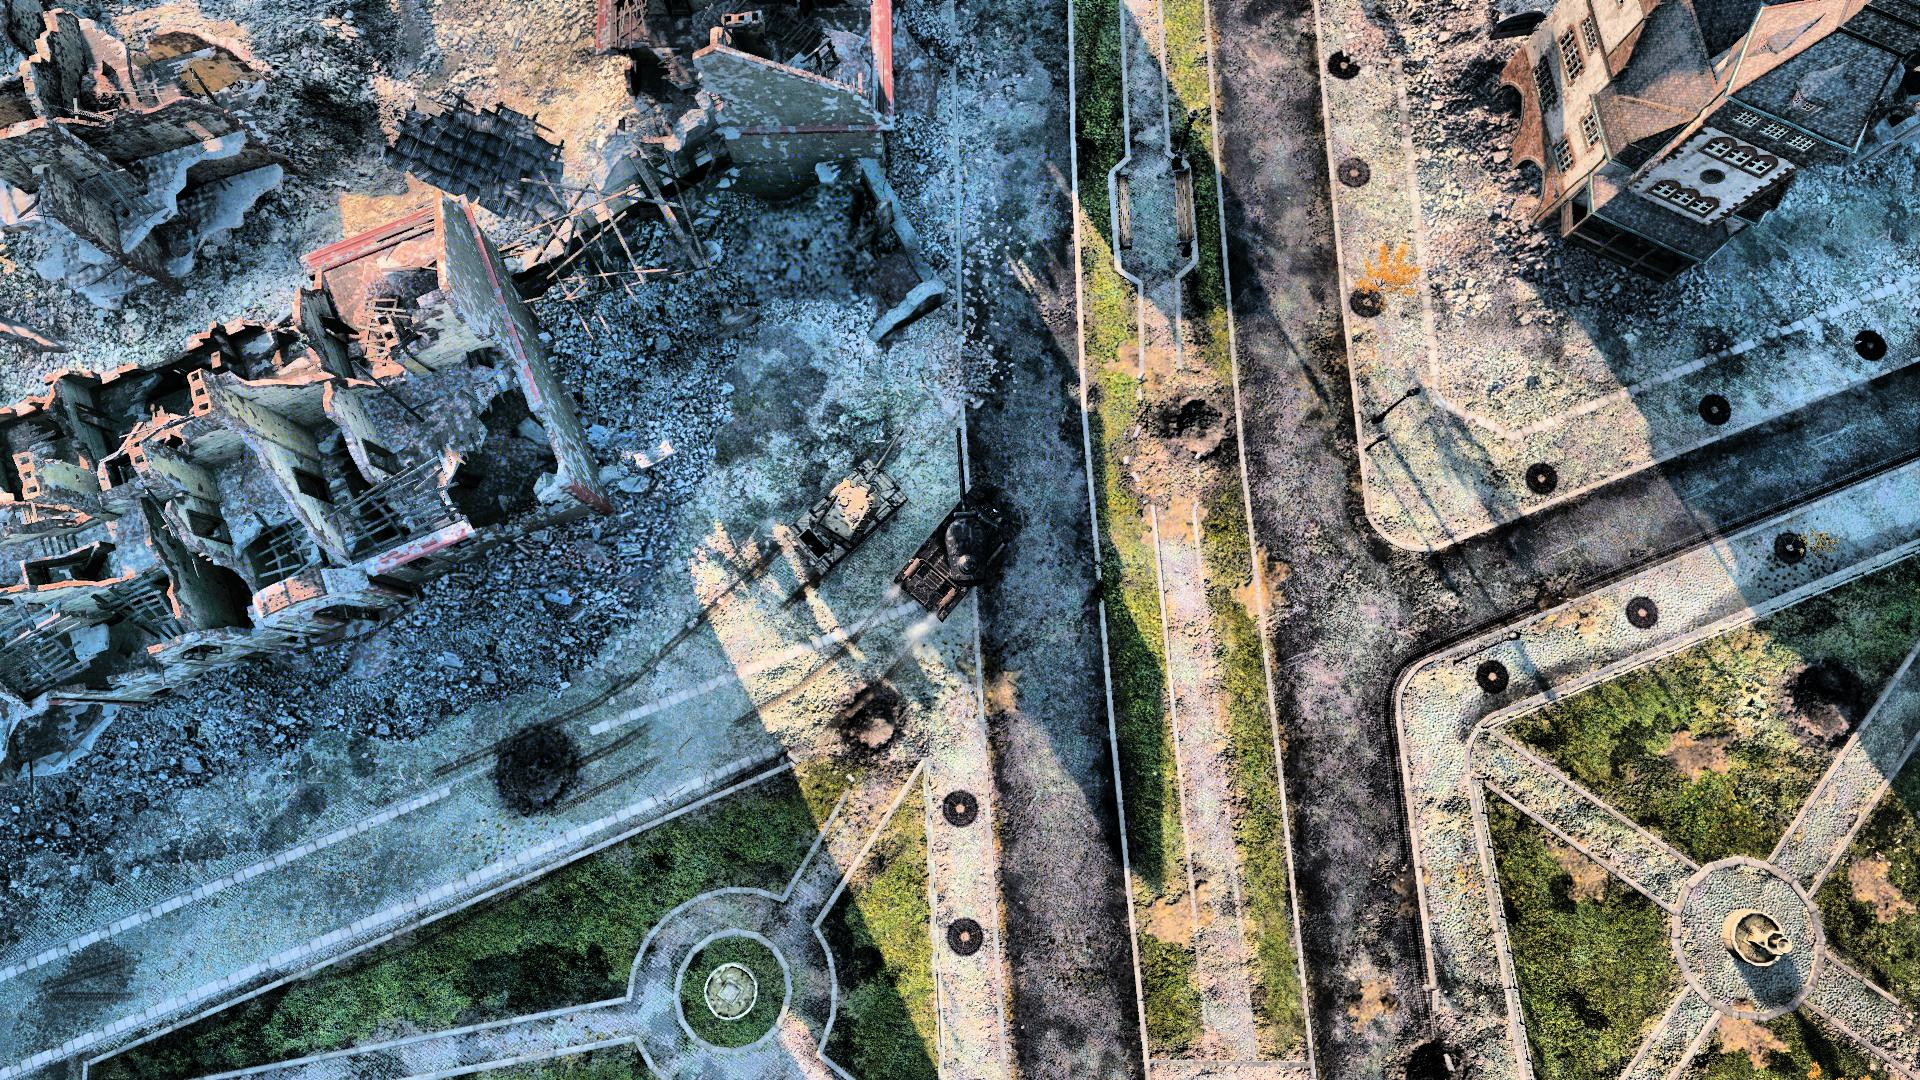military-vehicle: (895, 427, 1017, 624), (790, 429, 916, 568)
